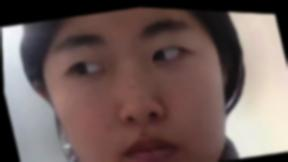eye: (71, 60, 84, 72), (153, 49, 164, 60)
iris: (62, 56, 105, 79), (147, 41, 188, 63)
